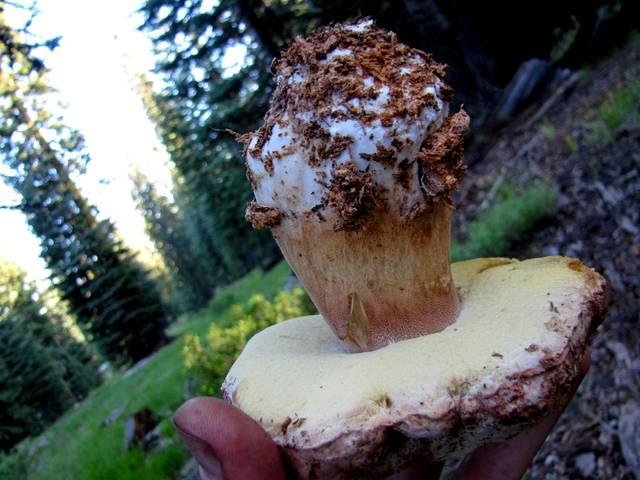edible_mushroom: (238, 16, 610, 478)
